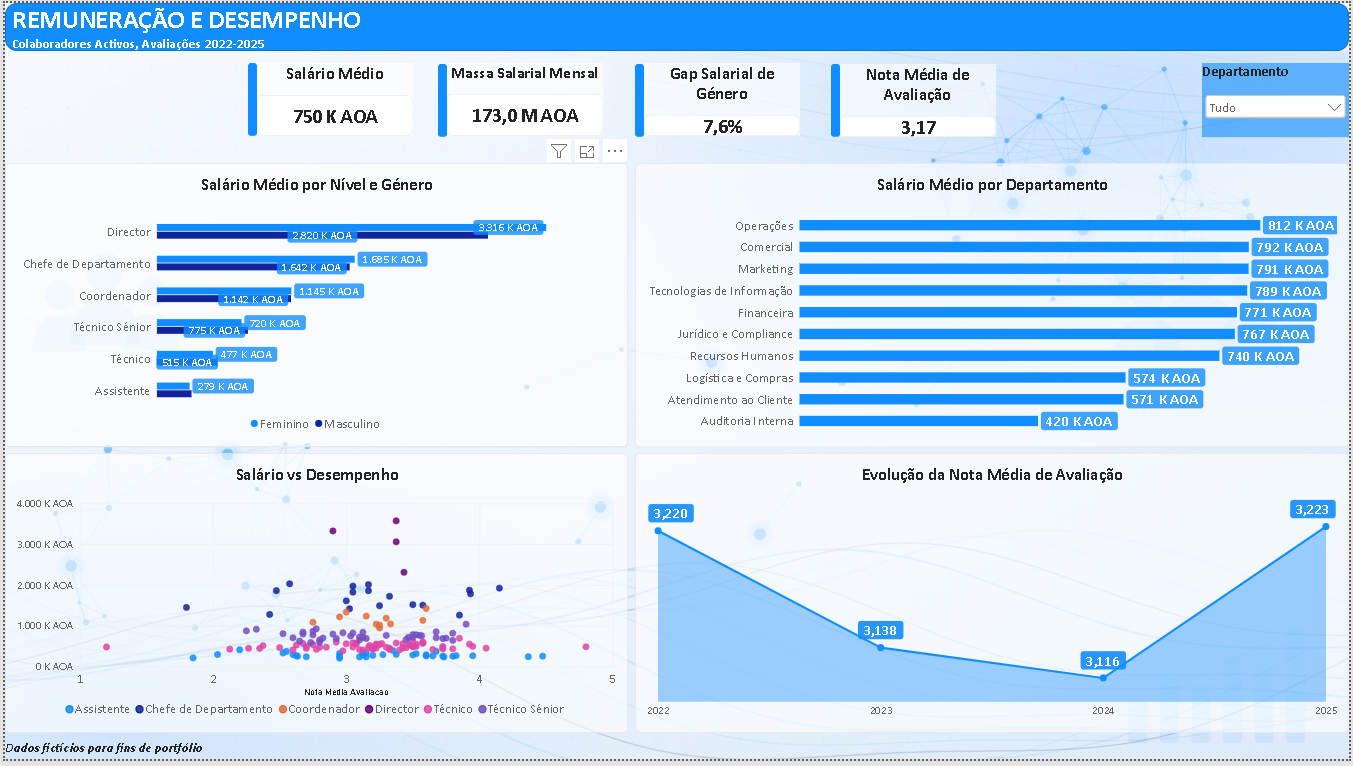

What the dashboard file says about the page in this screenshot:
{"tool":"powerbi","page":{"name":"Remuneração e Desempenho","canvas":[1920,1080],"ordinal":3},"visuals":[{"type":"image","box":[0,0,1919.6,1080],"z":0},{"type":"shape","box":[0,0,1920,68.6],"z":1000},{"type":"textbox","box":[9.4,0,1894,68.5],"z":2000},{"type":"cardVisual","title":"Salário Médio","fields":{"Data":["Medidas.Salario Medio Activos"]},"box":[360,85.7,222.9,104.3],"z":3000},{"type":"shape","box":[347.1,85.7,12.9,104.3],"z":4000},{"type":"cardVisual","title":"Massa Salarial Mensal","fields":{"Data":["Medidas.Massa Salarial Mensal"]},"box":[631.4,85.7,222.9,104.3],"z":5000},{"type":"cardVisual","title":"Gap Salarial de Género","fields":{"Data":["Medidas.Gap Salarial Genero"]},"box":[912.9,85.7,222.9,104.3],"z":7000},{"type":"cardVisual","title":"Nota Média de Avaliação","fields":{"Data":["Medidas.Nota Media Avaliacao"]},"box":[1192.9,87.1,222.9,104.3],"z":9000},{"type":"slicer","title":"Departamento","fields":{"Values":["Departamentos.Departamento"]},"box":[1710,85.7,210,105.7],"z":11000},{"type":"textbox","box":[0,1051.8,302.2,28.2],"z":13000},{"type":"clusteredBarChart","title":"Salário Médio por Departamento","fields":{"Category":["Departamentos.Departamento"],"Y":["Medidas.Salario Medio Activos"]},"box":[900,228.6,1020,405.7],"z":15000},{"type":"scatterChart","title":"Salário vs Desempenho","fields":{"X":["Medidas.Nota Media Avaliacao"],"Y":["Medidas.Salario Medio Activos"],"Series":["Colaboradores.Nivel"],"Category":["Colaboradores.ID_Colaborador"]},"box":[0,642.9,890,400],"z":16000},{"type":"shape","box":[618.6,87.1,12.9,104.3],"z":17001},{"type":"shape","box":[900,87.1,12.9,104.3],"z":17002},{"type":"shape","box":[1180,87.1,12.9,104.3],"z":17003},{"type":"clusteredBarChart","title":"Salário Médio por Nível e Género","fields":{"Category":["Colaboradores.Nivel"],"Y":["Medidas.Salario Medio Activos"],"Series":["Colaboradores.Genero"]},"box":[0,228.6,890,405.7],"z":17004},{"type":"lineChart","title":"Evolução da Nota Média de Avaliação","fields":{"Category":["Calendario.Ano"],"Y":["Medidas.Nota Media Avaliacao"]},"box":[900,642.9,1020,400],"z":17005}]}

Visuals, with their boxes in screenshot pixels (x1, y1, x2, y2), scaled from the page's 1920x1080 canvas onto the 1353x766 screenshot:
image: <box>0,0,1352,765</box>
shape: <box>0,0,1352,49</box>
textbox: <box>7,0,1341,49</box>
"Salário Médio" cardVisual: <box>254,61,411,135</box>
shape: <box>245,61,254,135</box>
"Massa Salarial Mensal" cardVisual: <box>445,61,602,135</box>
"Gap Salarial de Género" cardVisual: <box>643,61,800,135</box>
"Nota Média de Avaliação" cardVisual: <box>841,62,998,136</box>
"Departamento" slicer: <box>1205,61,1352,136</box>
textbox: <box>0,746,213,765</box>
"Salário Médio por Departamento" clusteredBarChart: <box>634,162,1352,450</box>
"Salário vs Desempenho" scatterChart: <box>0,456,627,740</box>
shape: <box>436,62,445,136</box>
shape: <box>634,62,643,136</box>
shape: <box>832,62,841,136</box>
"Salário Médio por Nível e Género" clusteredBarChart: <box>0,162,627,450</box>
"Evolução da Nota Média de Avaliação" lineChart: <box>634,456,1352,740</box>
